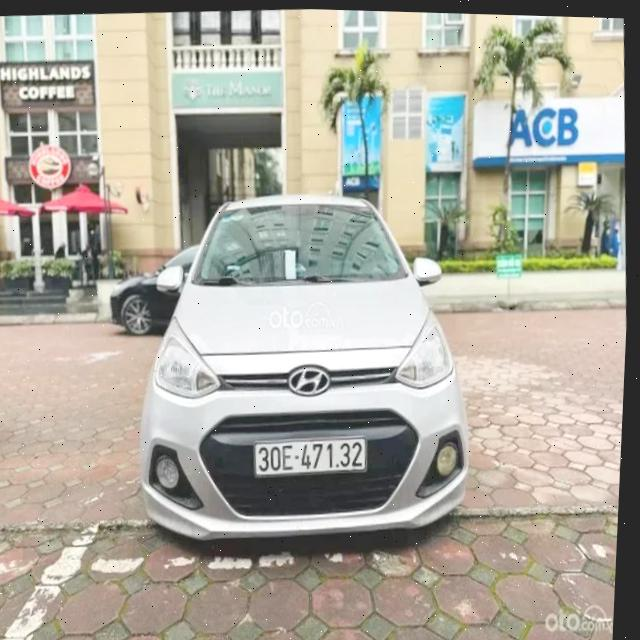car: (122, 173, 483, 567)
plate: (248, 429, 375, 483)
